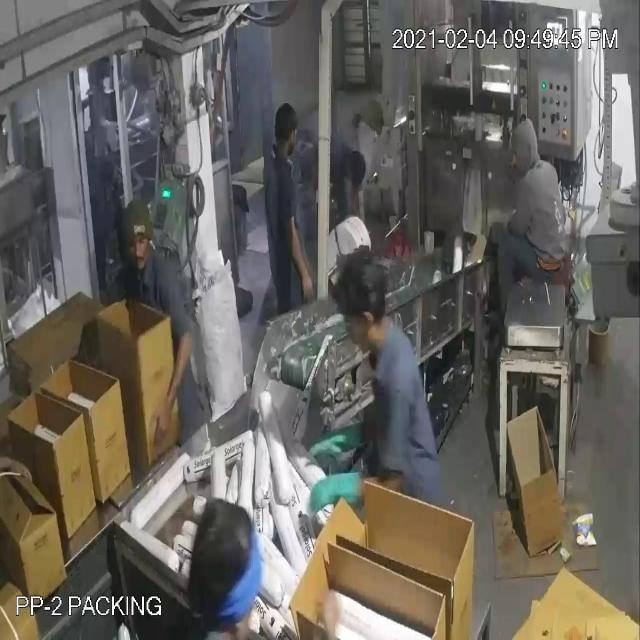No_Gloves: (36, 48, 337, 496)
